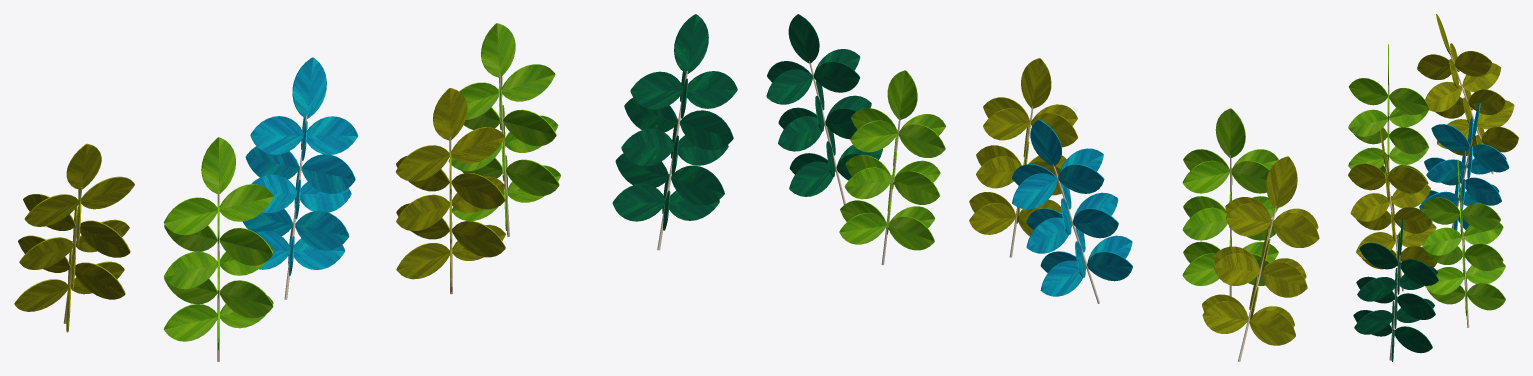
The model's file is arbusto05LT.obj.
The picture shows the model from 3 angles, left to right: view 1: azimuth 30°, elevation 25°; view 2: azimuth 150°, elevation 25°; view 3: azimuth 270°, elevation 25°; orthographic projection. The views are drawn at different scales.
Visible parts, largest first — view 1: Cylinder466, Cylinder467, Cylinder432, Cylinder433, Cylinder462, Cylinder459, Cylinder468, Cylinder428, Cylinder426, Cylinder425, Cylinder427, Cylinder434 (+38 smaller); view 2: Cylinder513, Cylinder511, Cylinder510, Cylinder512, Cylinder437, Cylinder471, Cylinder479, Cylinder522, Cylinder523, Cylinder442, Cylinder445, Cylinder524 (+44 smaller); view 3: Cylinder483, Cylinder449, Cylinder517, Cylinder446, Cylinder454, Cylinder456, Cylinder455, Cylinder500, Cylinder488, Cylinder480, Cylinder497, Cylinder506 (+46 smaller).
Part boxes in pixels (x1,y1,x2,y2): Cylinder466: (301, 154, 355, 193); Cylinder467: (295, 211, 349, 250); Cylinder432: (679, 110, 733, 150); Cylinder433: (671, 165, 724, 205); Cylinder462: (292, 57, 326, 118); Cylinder459: (250, 116, 303, 154); Cylinder468: (306, 116, 357, 154); Cylinder428: (674, 14, 708, 73); Cylinder426: (621, 128, 674, 166); Cylinder425: (630, 71, 683, 109); Cylinder427: (612, 183, 665, 221); Cylinder434: (687, 71, 737, 108); Cylinder513: (1266, 156, 1297, 208); Cylinder511: (1260, 262, 1307, 297); Cylinder510: (1272, 213, 1319, 247); Cylinder512: (1249, 310, 1295, 345); Cylinder437: (766, 69, 812, 104); Cylinder471: (1012, 173, 1057, 209); Cylinder479: (1021, 58, 1051, 108); Cylinder522: (1226, 203, 1271, 236); Cylinder523: (1214, 253, 1259, 285); Cylinder442: (898, 124, 945, 157); Cylinder445: (887, 70, 917, 119); Cylinder524: (1202, 301, 1248, 333); Cylinder483: (1350, 193, 1390, 221); Cylinder449: (1422, 227, 1462, 255); Cylinder517: (1425, 81, 1462, 111); Cylinder446: (1421, 197, 1459, 224); Cylinder454: (1462, 203, 1500, 230); Cylinder456: (1467, 283, 1505, 310); Cylinder455: (1464, 243, 1503, 270); Cylinder500: (1348, 109, 1387, 136); Cylinder488: (1388, 166, 1426, 193); Cylinder480: (1348, 163, 1385, 190); Cylinder497: (1349, 78, 1387, 105); Cylinder506: (1389, 127, 1428, 154).
Size of the model in its own units: 166 by 52.63 by 50.31.
